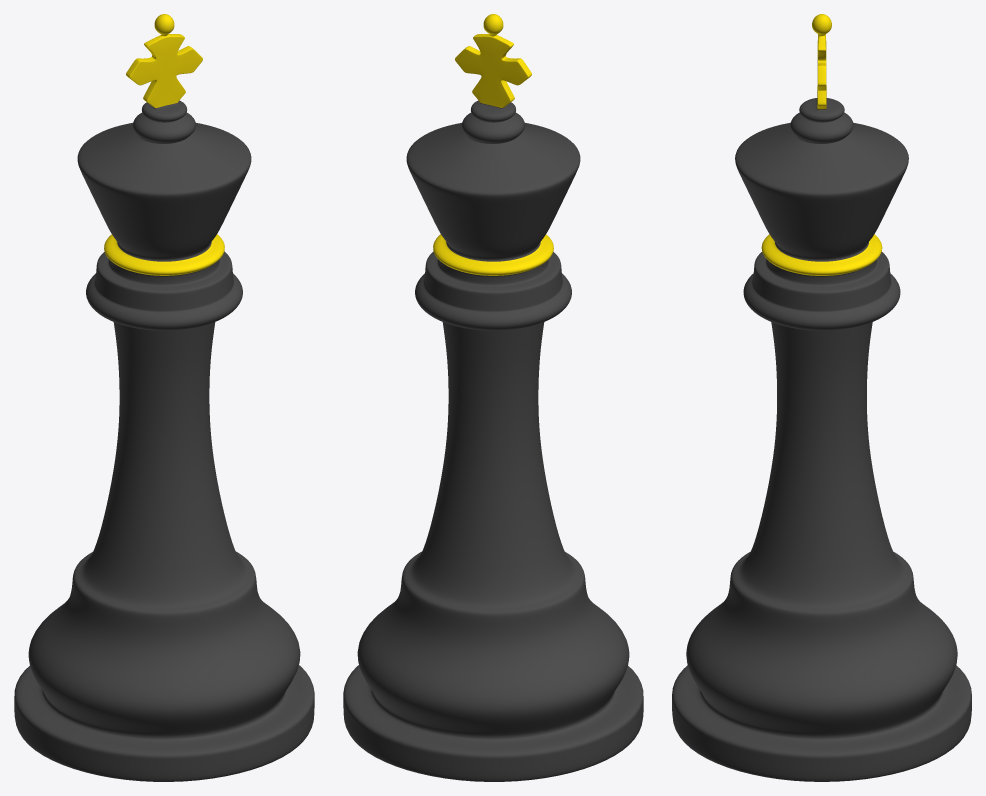
The model's file is black king.fbx.
3 renders of one model, left to right at view 1: azimuth 30°, elevation 25°; view 2: azimuth 150°, elevation 25°; view 3: azimuth 270°, elevation 25°, orthographic.
Parts seen in each view (by area): view 1: black king; view 2: black king; view 3: black king.
Part boxes in pixels (box(x1,y1,x2,y2)): black king: box(14, 14, 314, 781); black king: box(343, 14, 643, 781); black king: box(672, 14, 971, 781).
Size of the model in its own units: 112 by 290 by 112.
